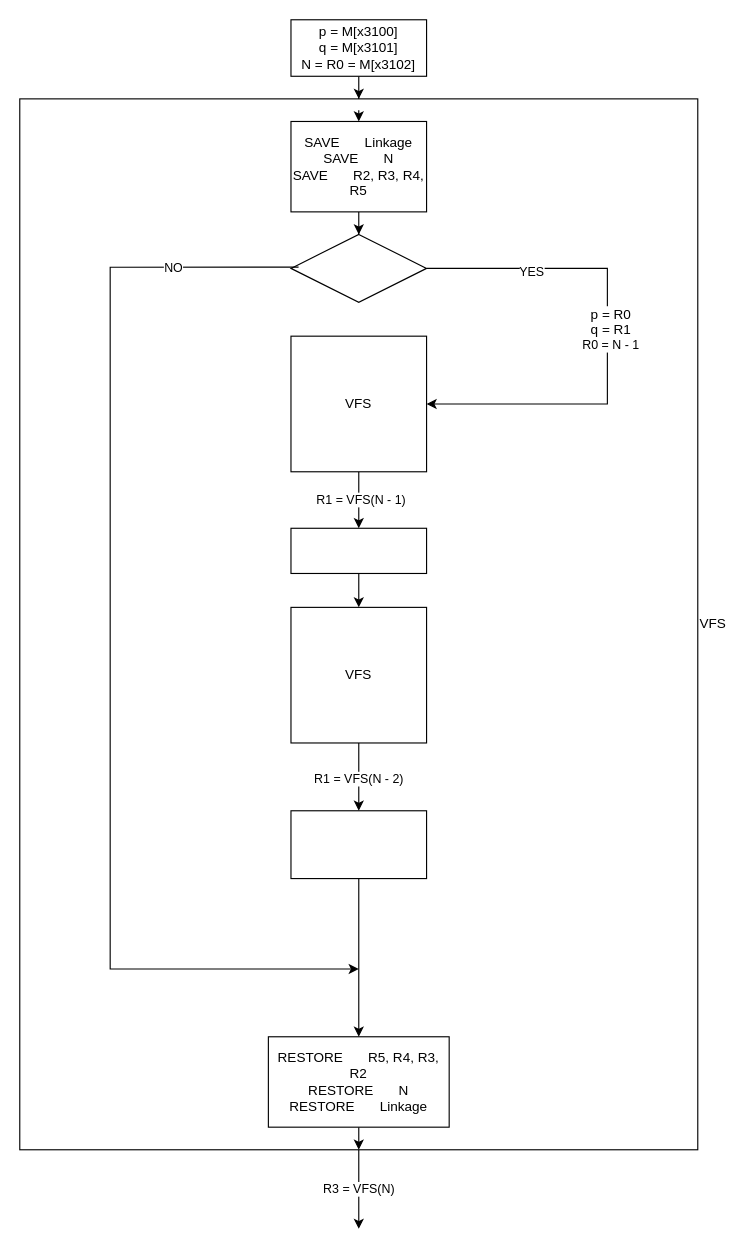
This 746x1258 diagram has some shape labels left out. The centre of each missing label's shape, as x and y in pixels:
"R1 = VFS(N - 1) % q + VFS(N - 2) % p" belongs at (358,844).
"SAVE R0[VFS(N - 1)] R0 = N - 2" belongs at (358,550).
"TEST if (N - 1) > 0" belongs at (358,267).
